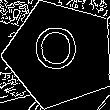O_S: (37, 28, 84, 81)
